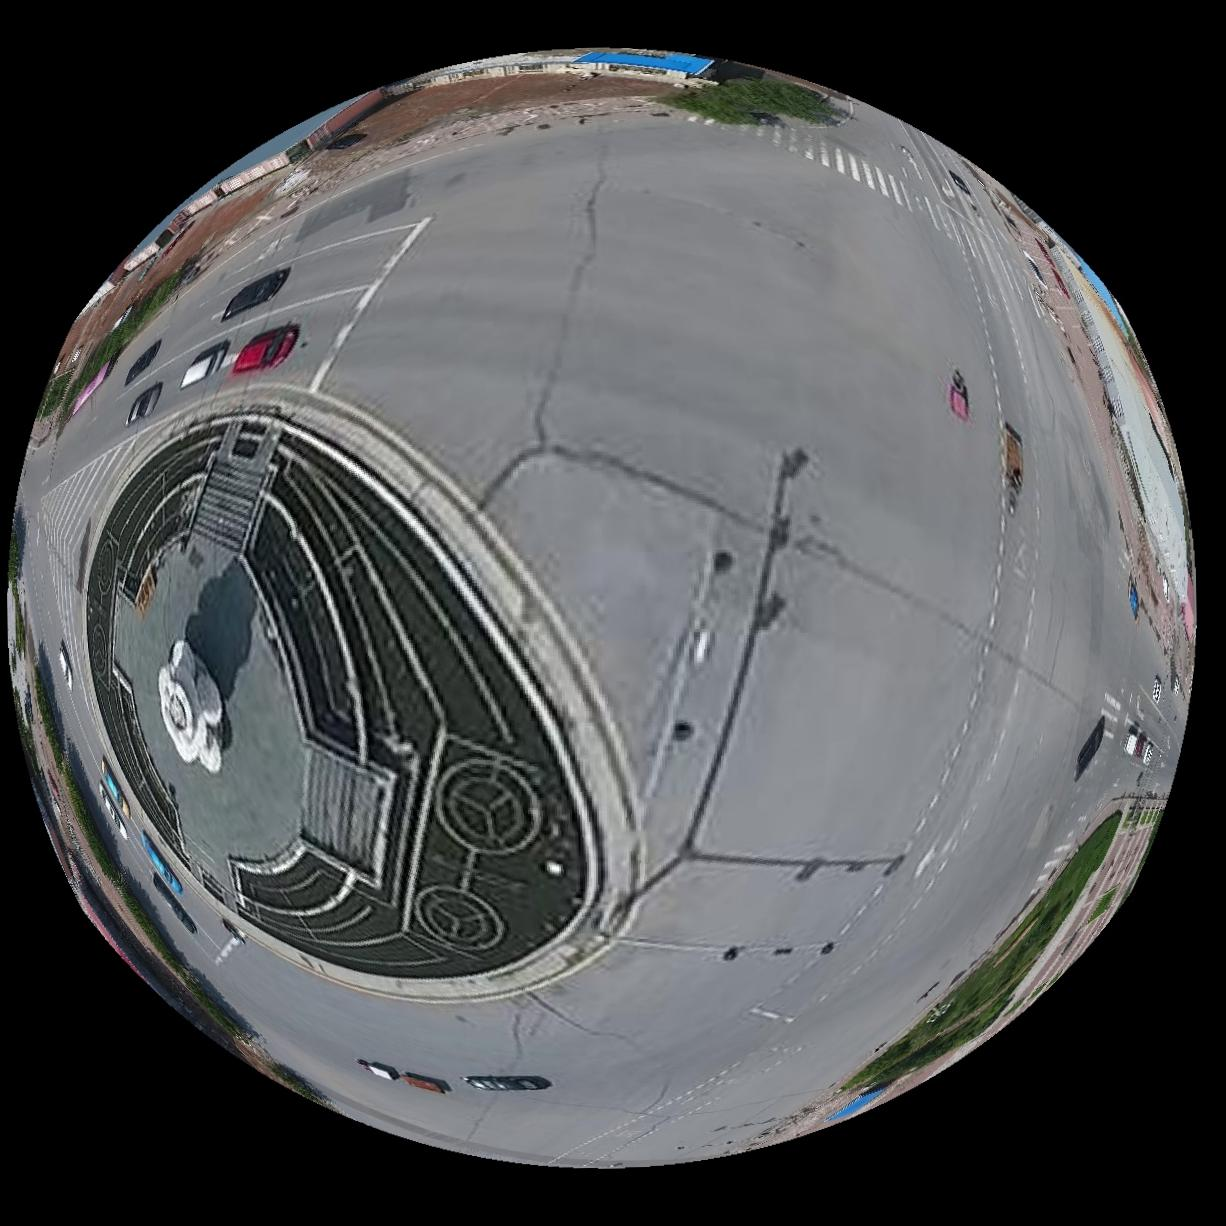cars: (220, 267, 287, 319), (230, 323, 296, 374), (179, 341, 226, 387), (122, 339, 158, 384), (461, 1077, 550, 1094), (125, 381, 159, 423)
trees: (842, 812, 1122, 1095), (655, 75, 844, 122)
